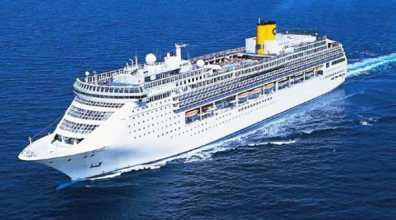youlun: (15, 16, 349, 193)
